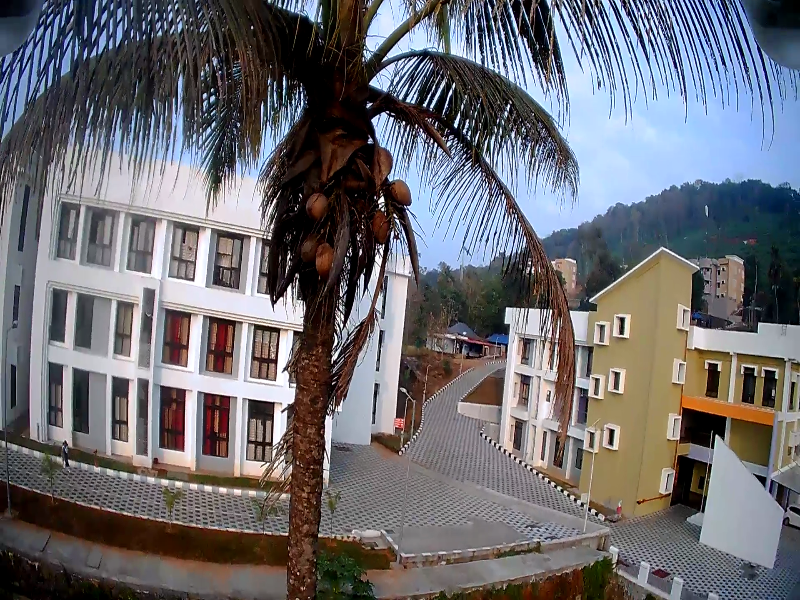coconut: (389, 177, 413, 210), (311, 241, 333, 275), (373, 210, 391, 245), (303, 193, 323, 220), (301, 240, 318, 261)
